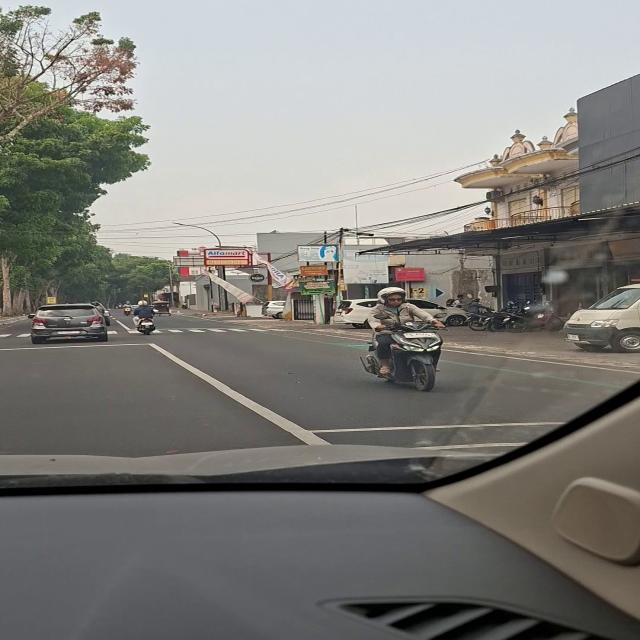WithHelmet: (364, 287, 447, 376), (131, 300, 159, 331), (122, 300, 135, 313)
